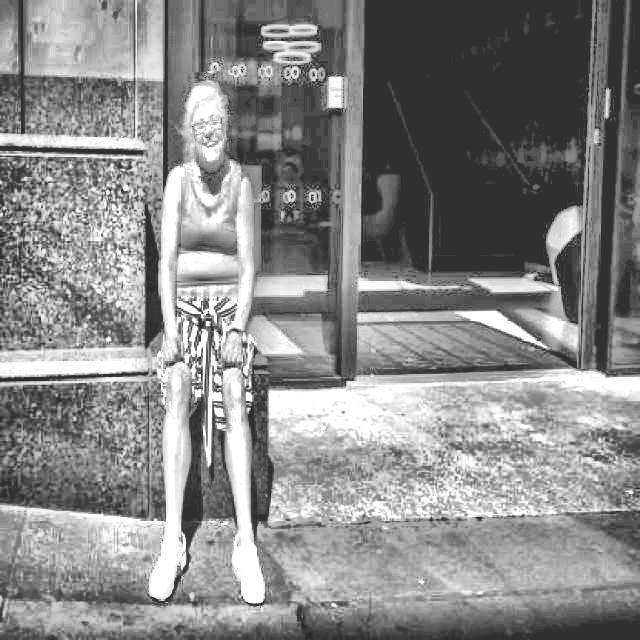happy: (176, 71, 240, 177)
